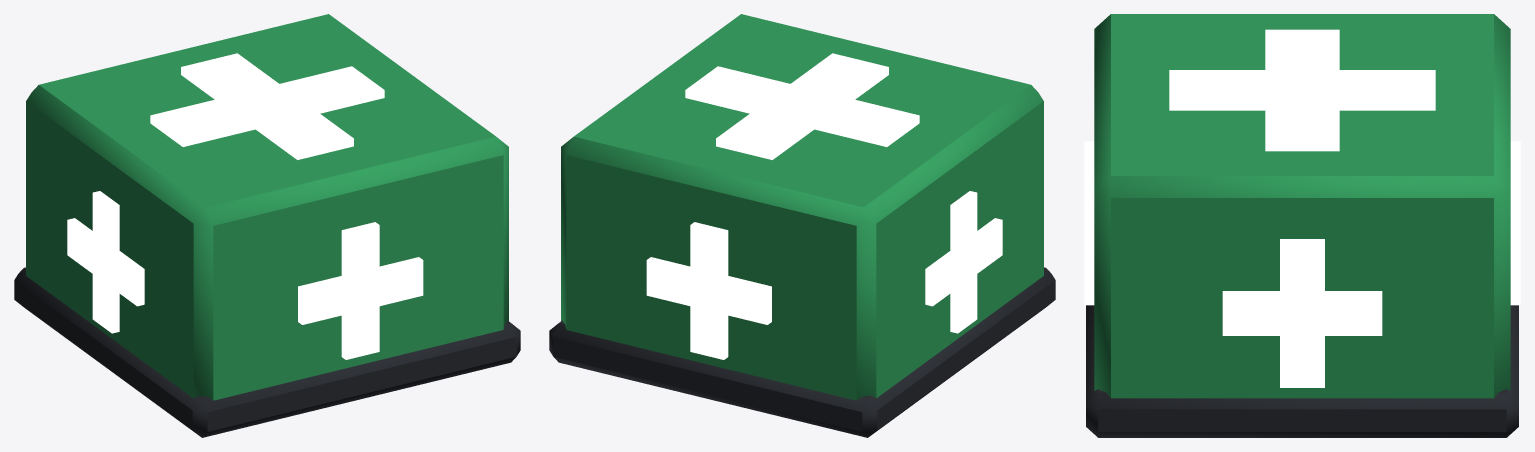
Rendered from prop_healthpack_small.glb.
3 views of the same model, side by side, from view 1: azimuth 30°, elevation 25°; view 2: azimuth 150°, elevation 25°; view 3: azimuth 270°, elevation 25° (orthographic). The views are drawn at different scales.
Parts seen in each view (by area): view 1: healthpack; view 2: healthpack; view 3: healthpack.
Boxes of the visible parts, box(x1,y1,x2,y2) form: healthpack: box(14, 14, 520, 437); healthpack: box(549, 14, 1055, 437); healthpack: box(1084, 14, 1520, 437).
Bounding box in the file's own units: 0.524 × 0.352 × 0.524.
